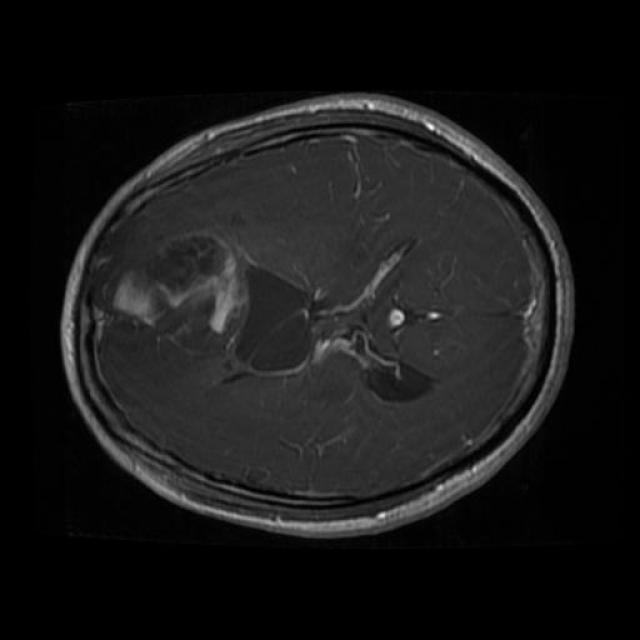Glioma: (100, 234, 250, 352)
